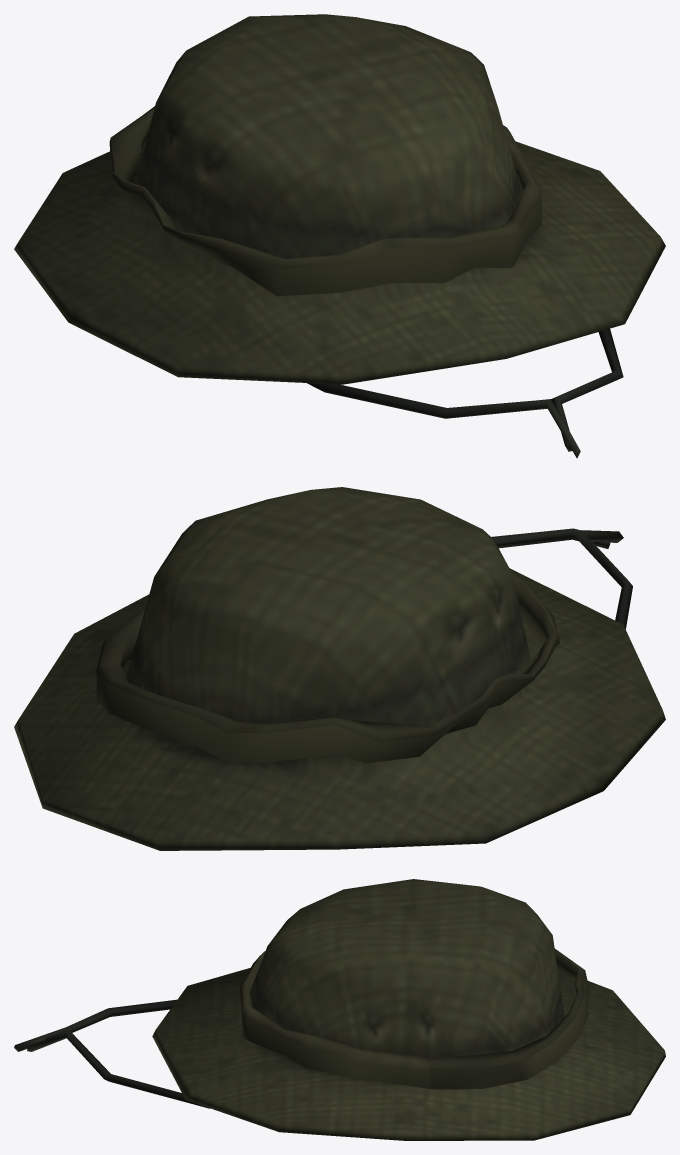
Rendered from BoonieHat_Ground.fbx.
The picture shows the model from 3 angles, top to bottom: view 1: azimuth 30°, elevation 25°; view 2: azimuth 150°, elevation 25°; view 3: azimuth 270°, elevation 25°; orthographic projection. The views are drawn at different scales.
Parts seen in each view (by area): view 1: Plane; view 2: Plane; view 3: Plane.
Part boxes in pixels (x1=…): Plane: x1=14, y1=14, x2=665, y2=458; Plane: x1=14, y1=487, x2=665, y2=850; Plane: x1=14, y1=879, x2=665, y2=1140.
Size of the model in its own units: 52.67 by 19.04 by 74.27.
